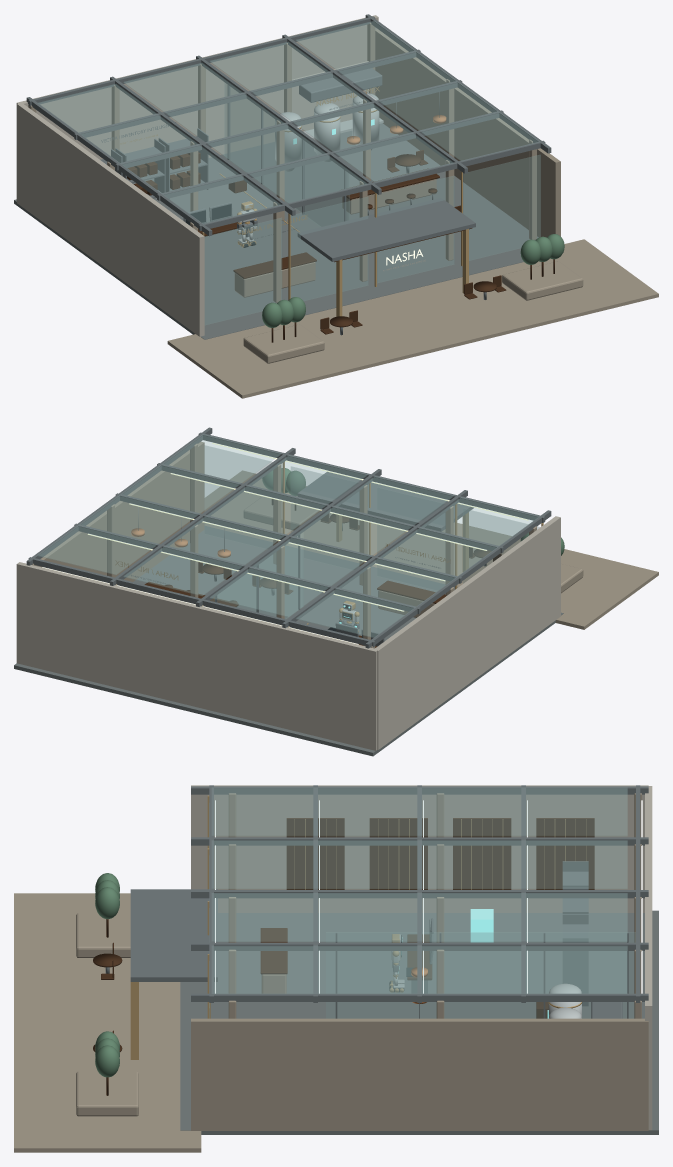
3 views of the same model, one above another, from view 1: azimuth 30°, elevation 25°; view 2: azimuth 150°, elevation 25°; view 3: azimuth 270°, elevation 25° (orthographic). The views are drawn at different scales.
Visible parts, largest first — view 1: Architecture_Architectural glazing, Architecture_Warm limestone, Architecture_Ivory mineral plaster, Architecture_Brushed dark steel, Architecture_Honed charcoal terrazzo, Architecture_Smoked walnut, Architecture_VECTRA silver alloy, Architecture_Courtyard foliage, Architecture_Aged champagne brass; view 2: Architecture_Ivory mineral plaster, Architecture_Architectural glazing, Architecture_Warm limestone, Architecture_Brushed dark steel, Architecture_Honed charcoal terrazzo, Architecture_Warm architectural diffuser, Architecture_Smoked walnut, Architecture_Aged champagne brass, Architecture_Courtyard foliage; view 3: Architecture_Warm limestone, Architecture_Architectural glazing, Architecture_Brushed dark steel, Architecture_Honed charcoal terrazzo, Architecture_Ivory mineral plaster, Architecture_Smoked walnut, Architecture_Aged champagne brass, Architecture_Courtyard foliage, Architecture_Warm architectural diffuser, Architecture_VECTRA silver alloy, StockLevel.
Boxes of the visible parts, <box> form: Architecture_Architectural glazing: <box>38,21,540,324</box>; Architecture_Warm limestone: <box>28,23,658,398</box>; Architecture_Ivory mineral plaster: <box>16,15,425,336</box>; Architecture_Brushed dark steel: <box>26,14,551,335</box>; Architecture_Honed charcoal terrazzo: <box>14,123,538,339</box>; Architecture_Smoked walnut: <box>127,150,554,342</box>; Architecture_VECTRA silver alloy: <box>275,93,383,171</box>; Architecture_Courtyard foliage: <box>262,234,564,327</box>; Architecture_Aged champagne brass: <box>120,86,468,316</box>; Architecture_Ivory mineral plaster: <box>16,516,560,750</box>; Architecture_Architectural glazing: <box>38,434,539,637</box>; Architecture_Warm limestone: <box>32,441,658,648</box>; Architecture_Brushed dark steel: <box>26,427,551,648</box>; Architecture_Honed charcoal terrazzo: <box>14,526,563,756</box>; Architecture_Warm architectural diffuser: <box>42,442,528,644</box>; Architecture_Smoked walnut: <box>144,499,501,647</box>; Architecture_Aged champagne brass: <box>115,462,543,624</box>; Architecture_Courtyard foliage: <box>262,468,564,555</box>; Architecture_Warm limestone: <box>14,793,648,1152</box>; Architecture_Architectural glazing: <box>209,787,635,1018</box>; Architecture_Brushed dark steel: <box>105,785,648,1018</box>; Architecture_Honed charcoal terrazzo: <box>180,910,658,1134</box>; Architecture_Ivory mineral plaster: <box>191,785,652,1130</box>; Architecture_Smoked walnut: <box>93,818,594,1095</box>; Architecture_Aged champagne brass: <box>130,795,586,1059</box>; Architecture_Courtyard foliage: <box>95,873,119,1077</box>; Architecture_Warm architectural diffuser: <box>215,800,642,993</box>; Architecture_VECTRA silver alloy: <box>548,983,581,1018</box>; StockLevel: <box>470,909,493,942</box>.
Bounding box in the file's own units: 29 × 7.12 × 31.
